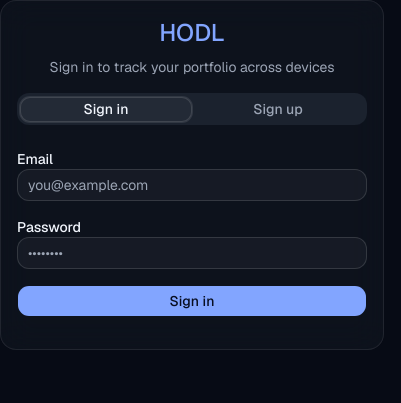
Test: sign-up when the project requires email confirmation › shows the error, and no notice, when sign-up actually fails
Click the tab "Sign up" at (278, 109), box [192,96,364,122]
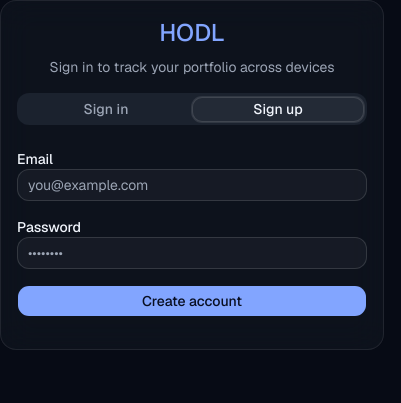
Type "someone@example.com" into the field labelled "Email" at (192, 185), box [17,169,367,201]
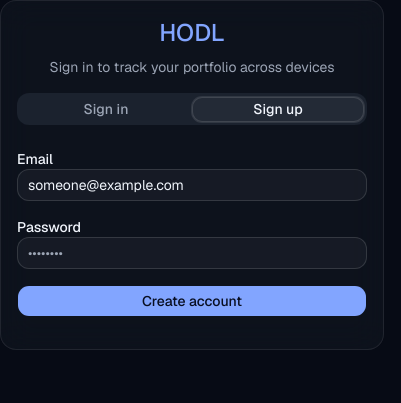
Type "hunter2hunter2" into the password field labelled "Password" at (192, 253), box [17,237,367,269]
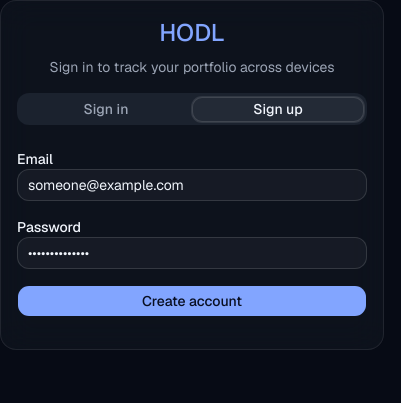
Click the button "Create account" at (192, 301), box [17,285,367,317]
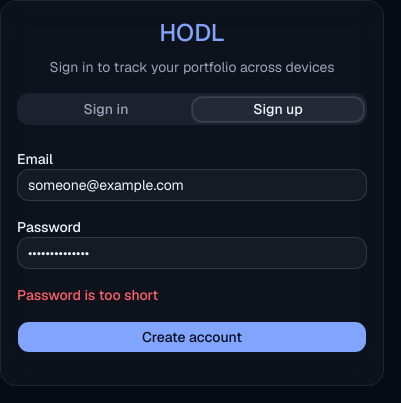
Expected: the message reads "Password is too short", [17,286,158,304]
